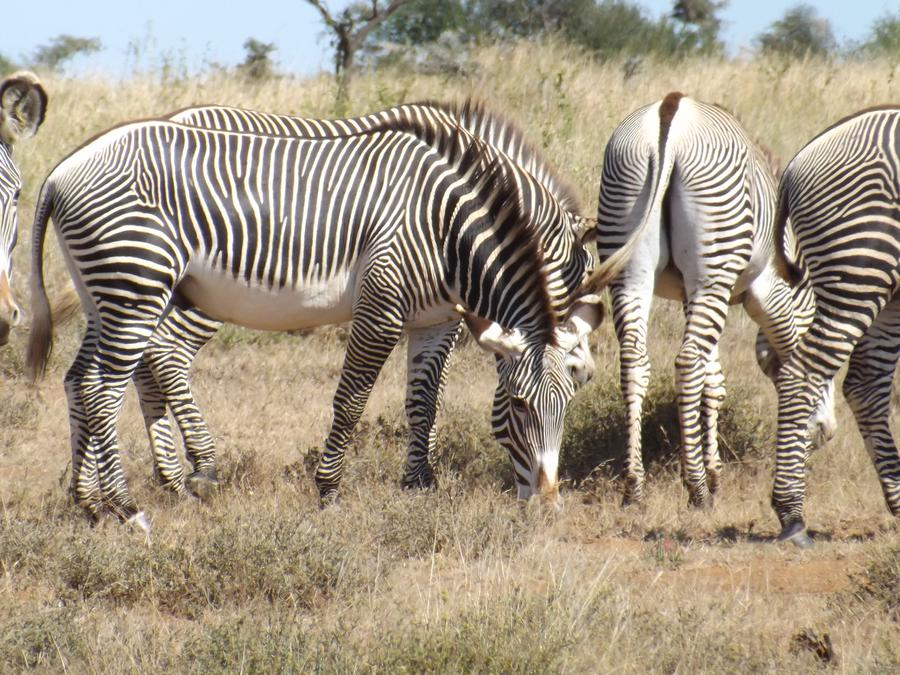zebra_grevys: (47, 88, 429, 327)
